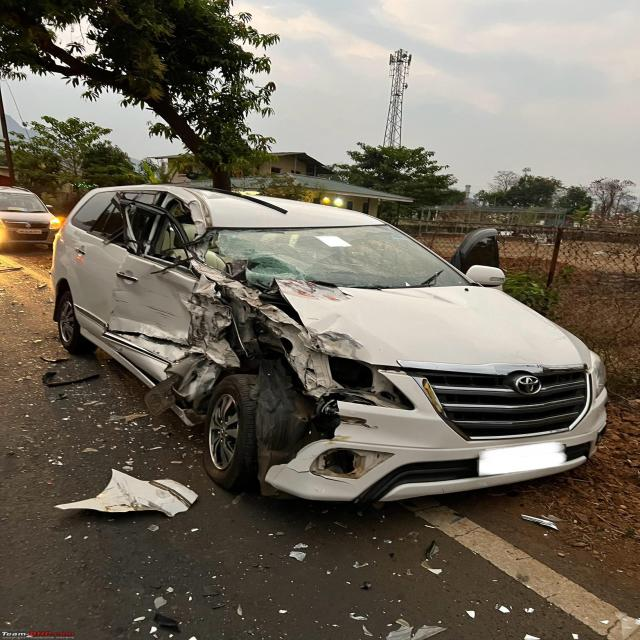accident: (52, 185, 607, 501)
